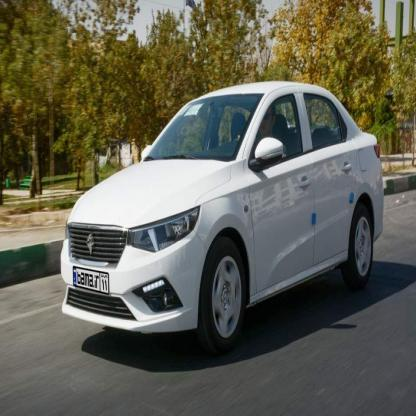Car: (54, 81, 384, 346)
